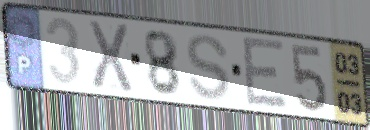3: (44, 16, 85, 90)
5: (289, 41, 329, 114)
8: (142, 28, 183, 98)
E: (240, 34, 290, 111)
S: (184, 32, 232, 103)
X: (85, 18, 135, 94)
